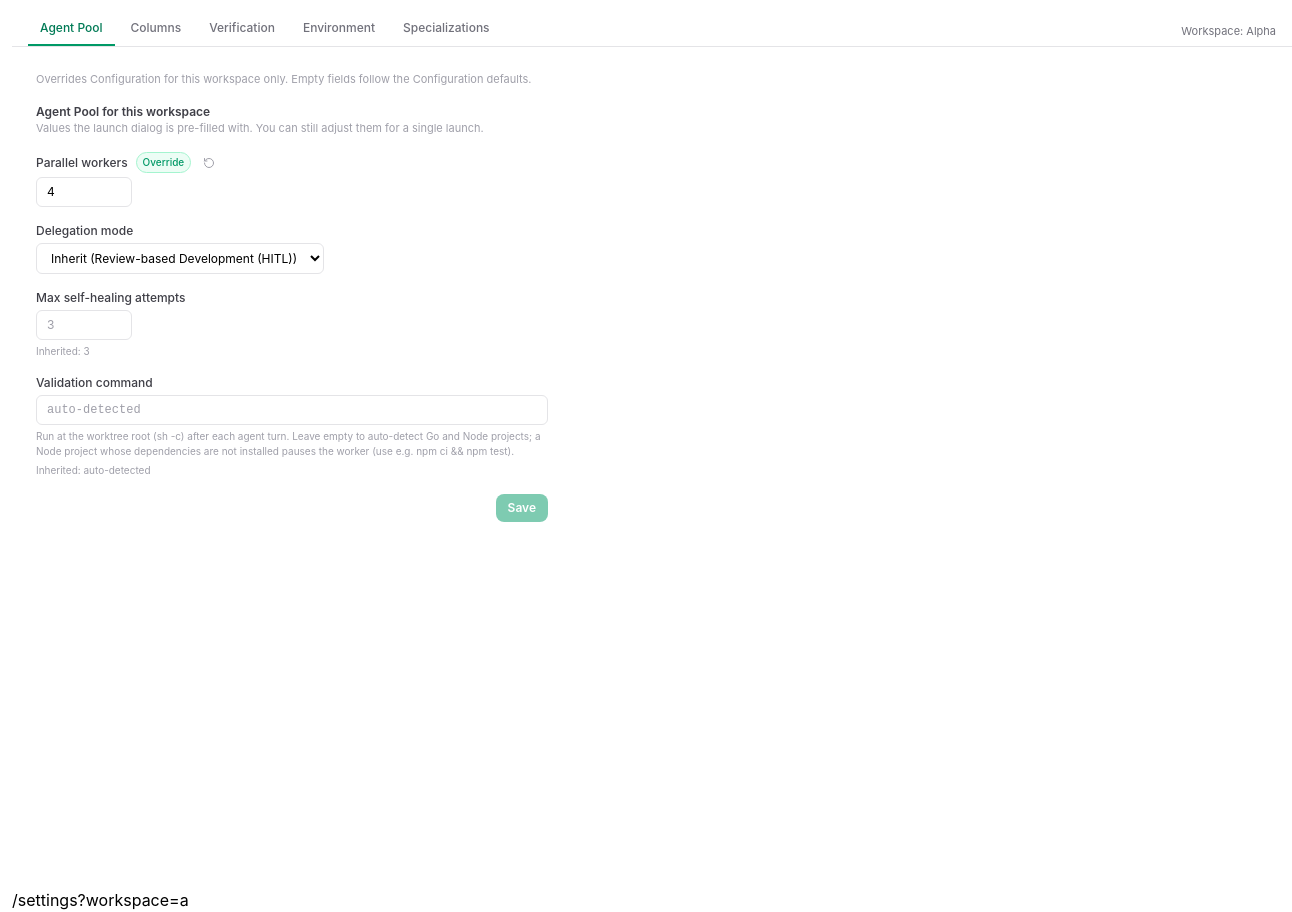
Test: SettingsPage › carries the sub-tab in the URL while keeping the workspace
Click the tab "Columns". click: (156, 29)
box: [118,12,193,46]
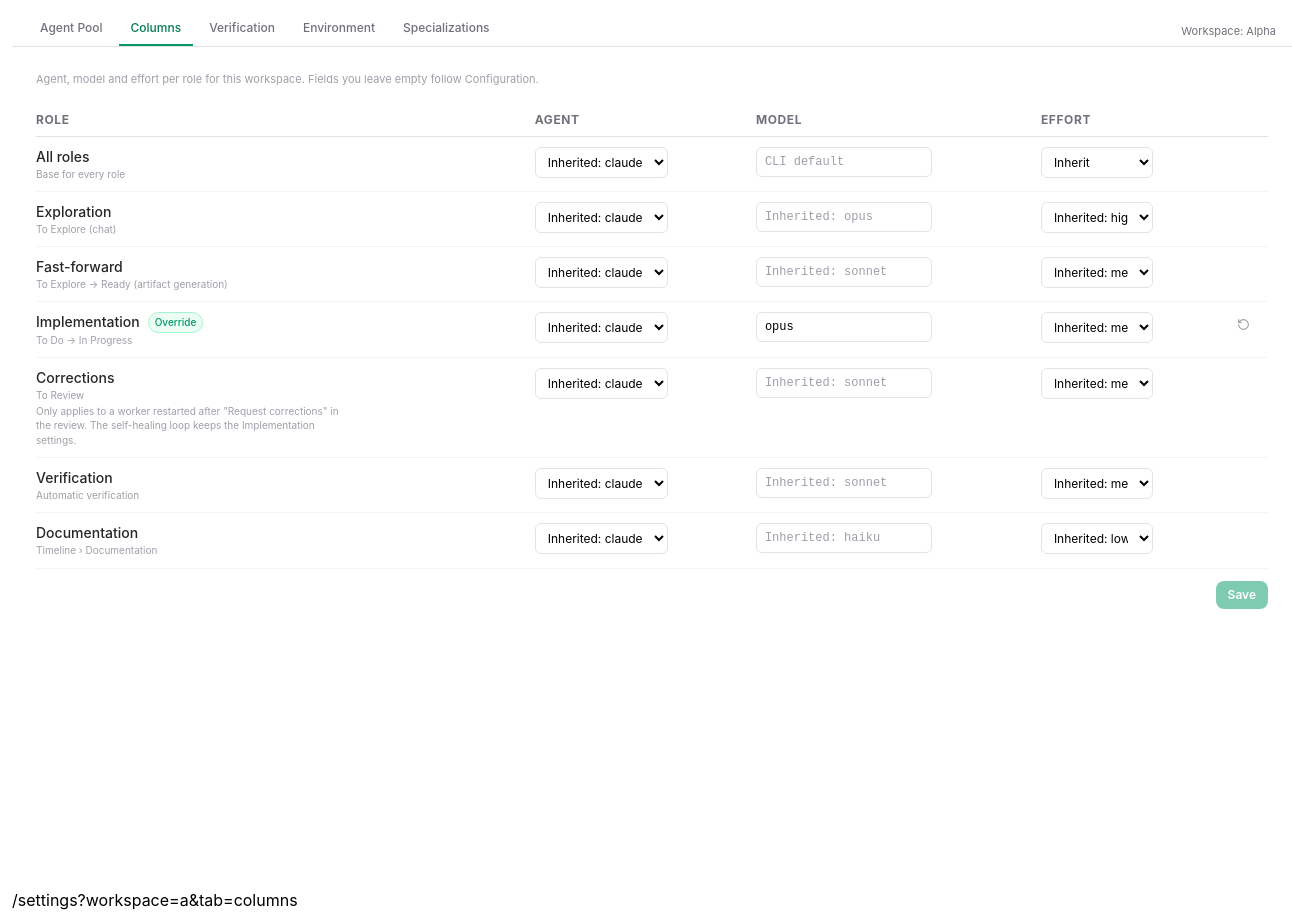
Expected: the text with test id "loc" shows "workspace=a", [12,890,298,910]
Expected: the text with test id "loc" shows "tab=columns", [12,890,298,910]
